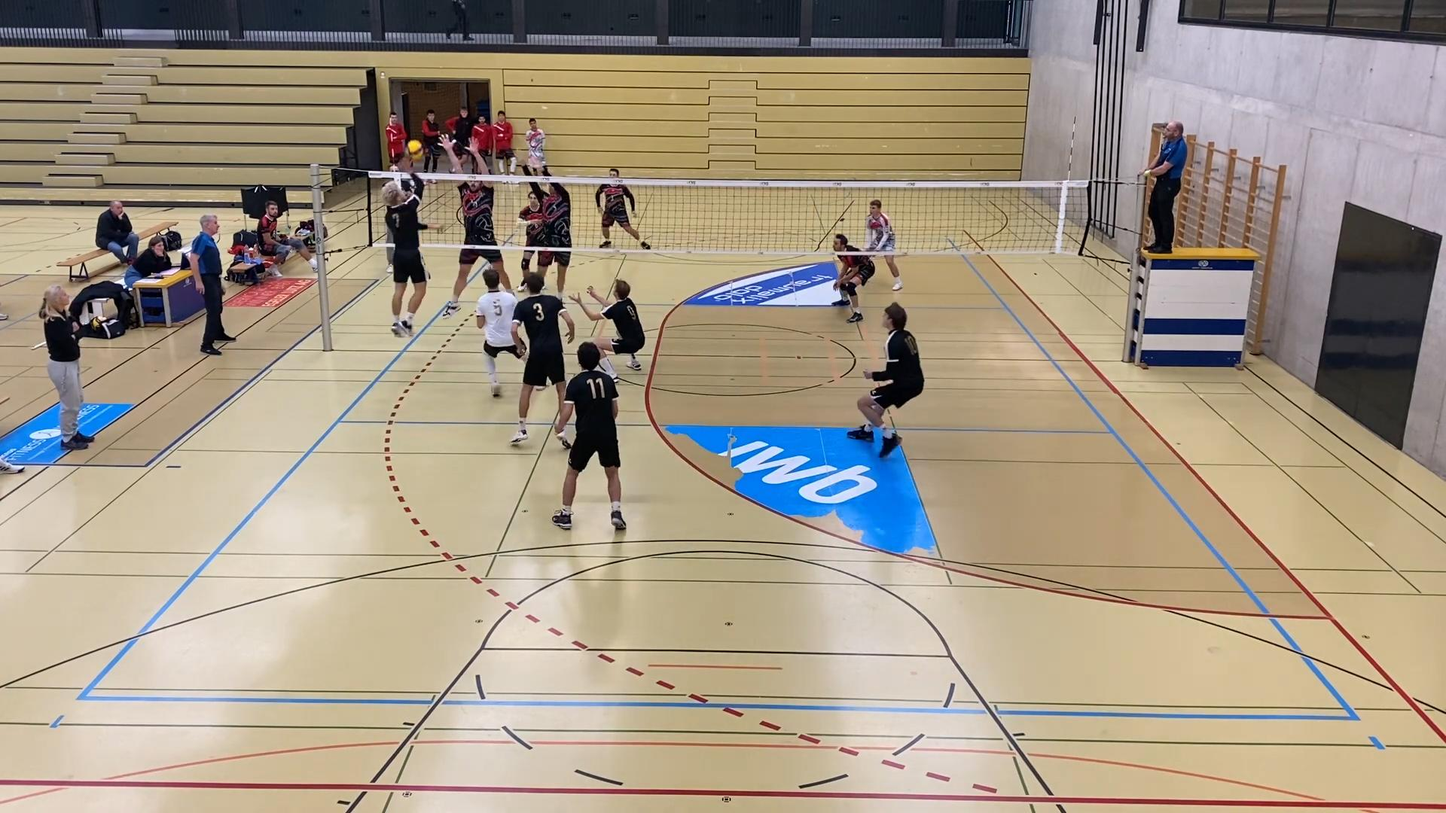attacco: (362, 159, 458, 344)
muro: (443, 134, 511, 289), (513, 159, 577, 287)
